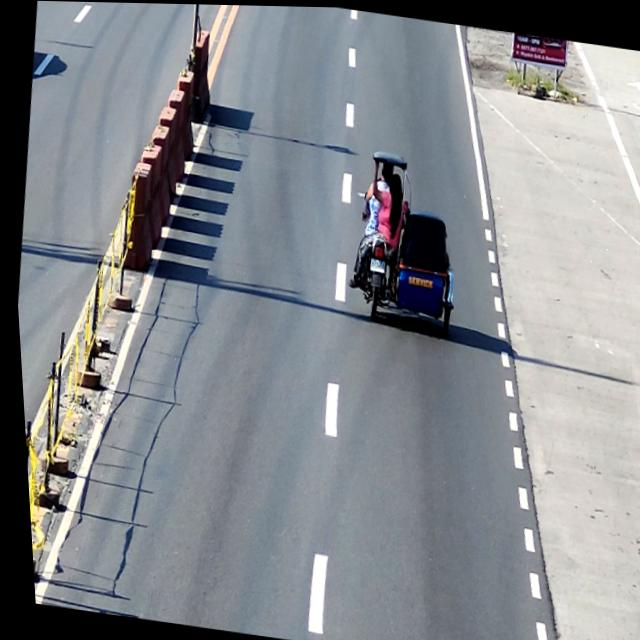License-Plate: (365, 256, 383, 270)
Tricycle: (343, 145, 469, 333)
